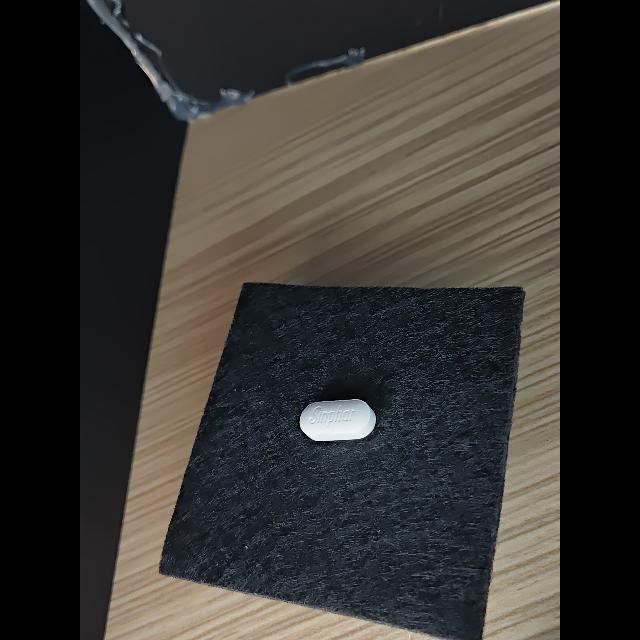Intact Pill: (300, 399, 376, 441)
